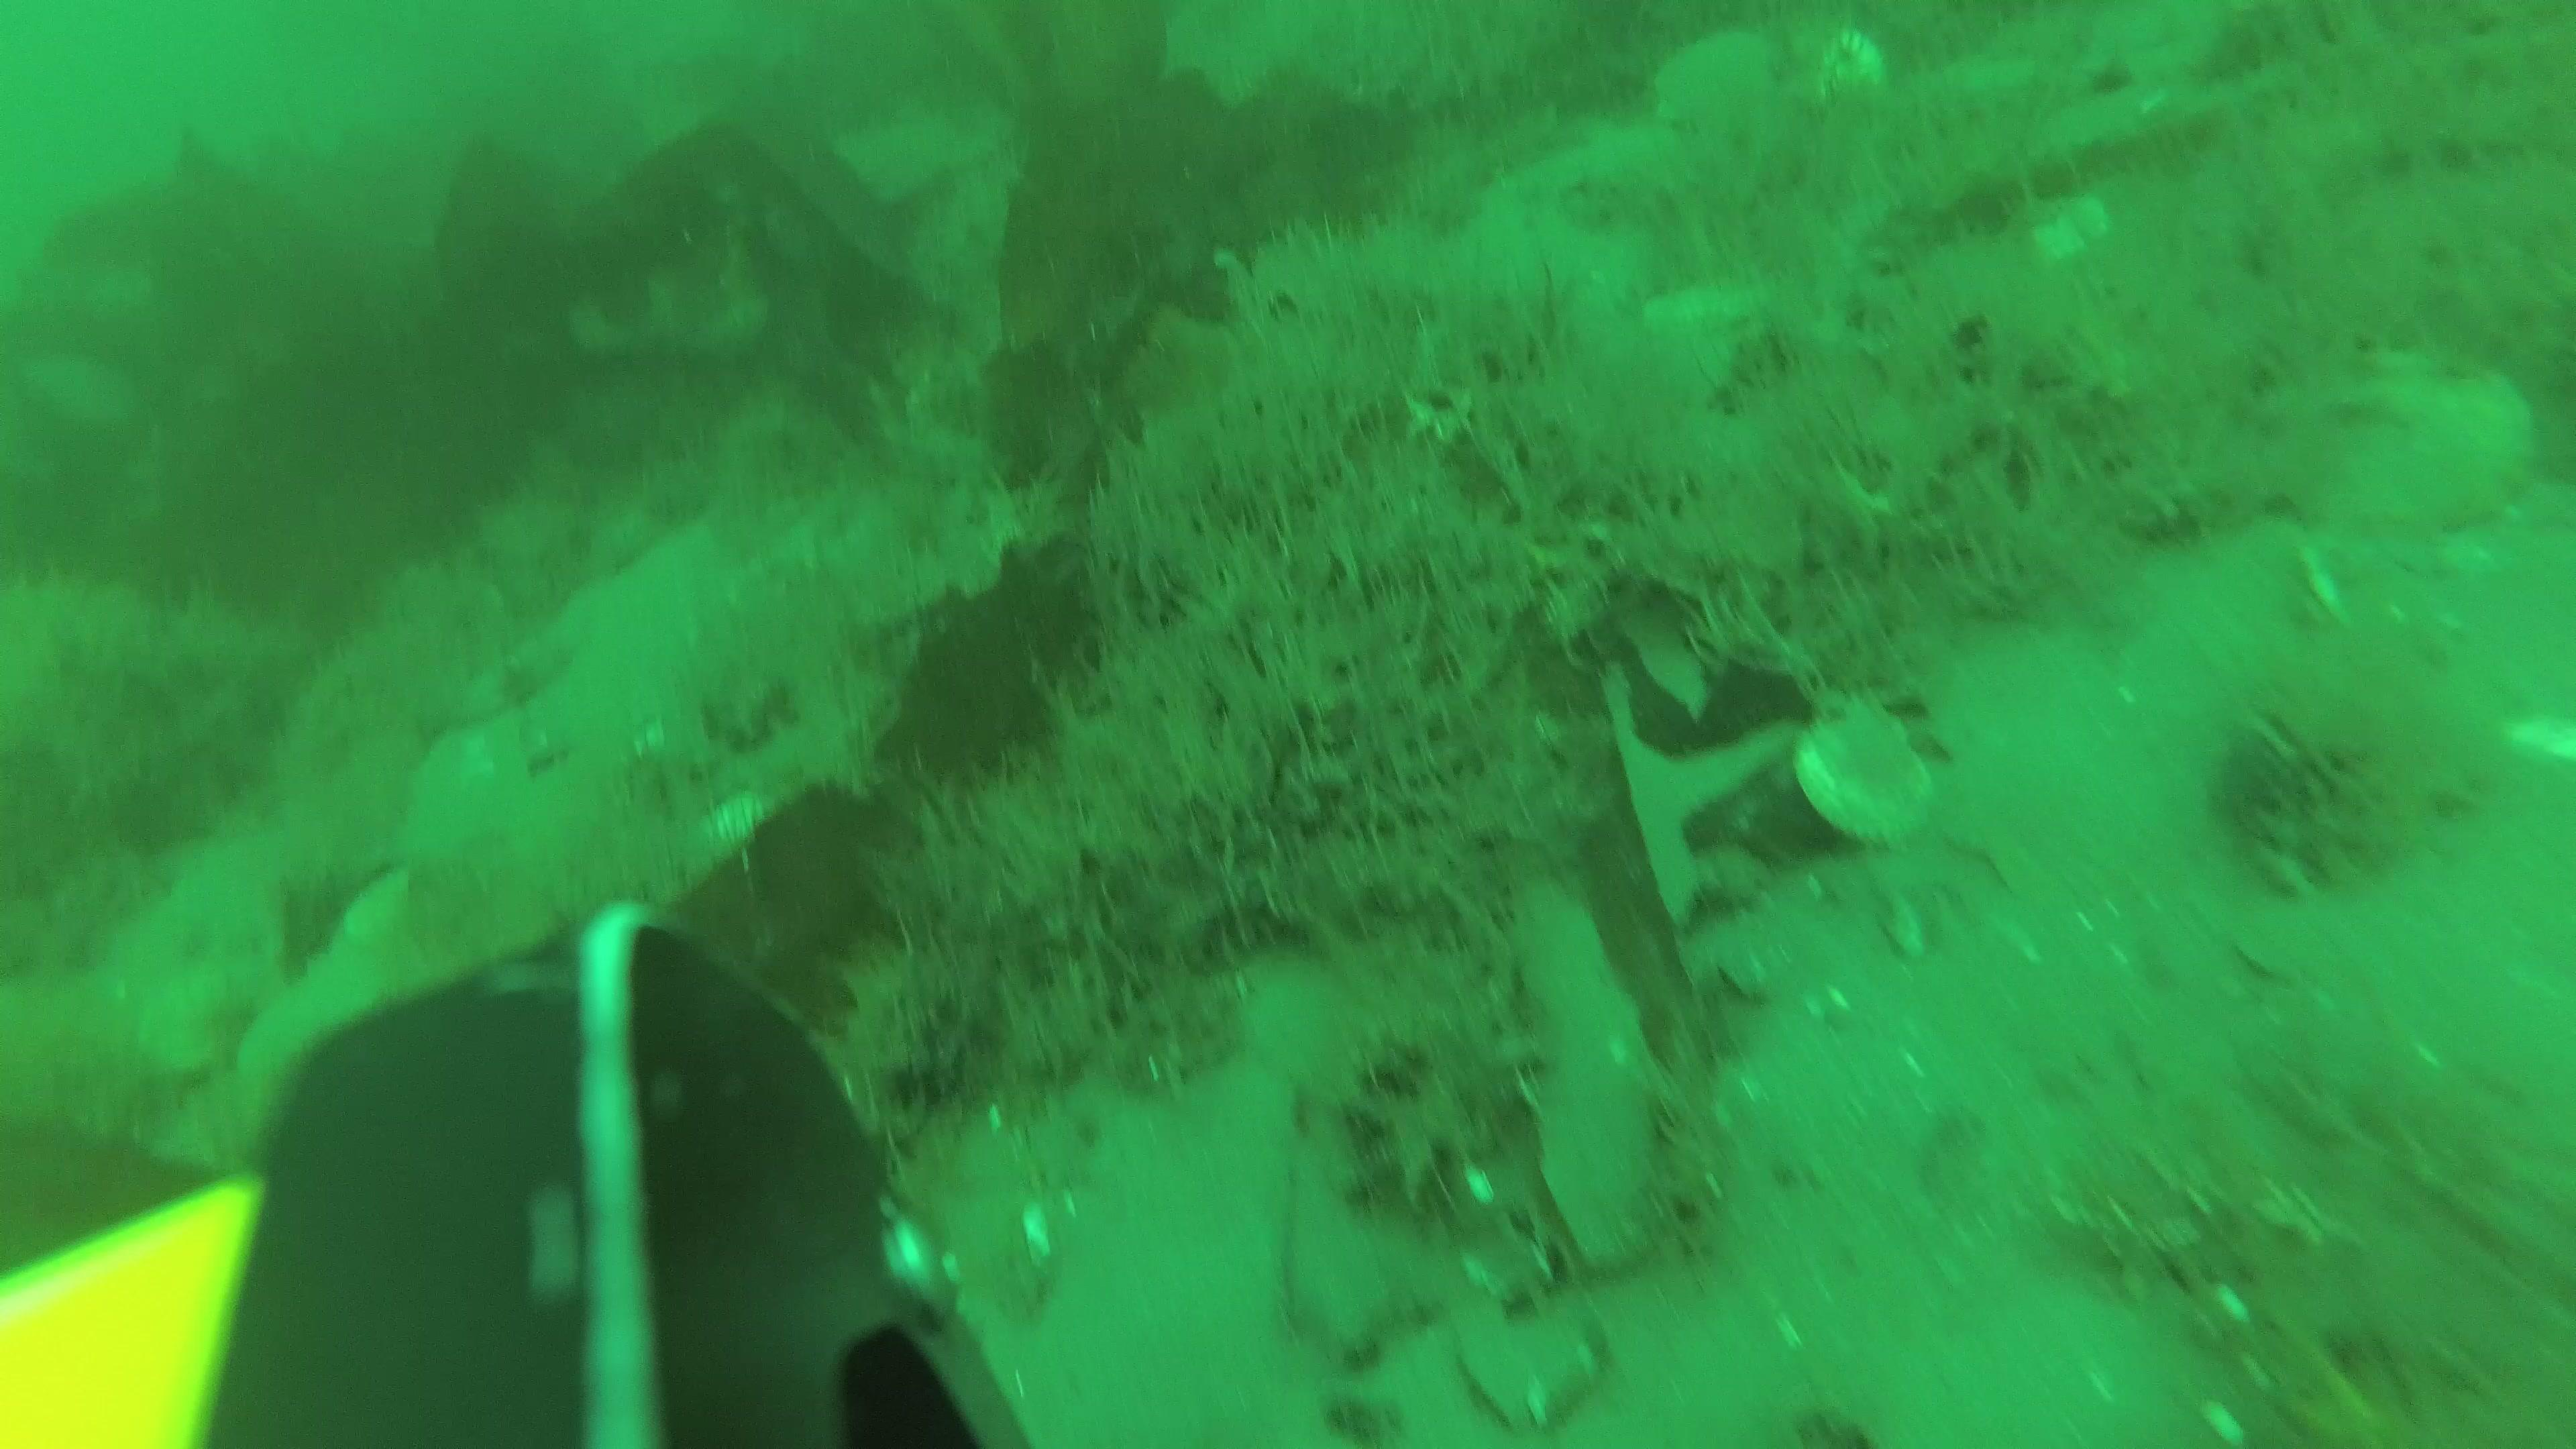scallop: (2279, 352, 2526, 522), (1790, 704, 1941, 842), (1654, 23, 1790, 138), (2010, 193, 2109, 276), (1821, 35, 1895, 117)
